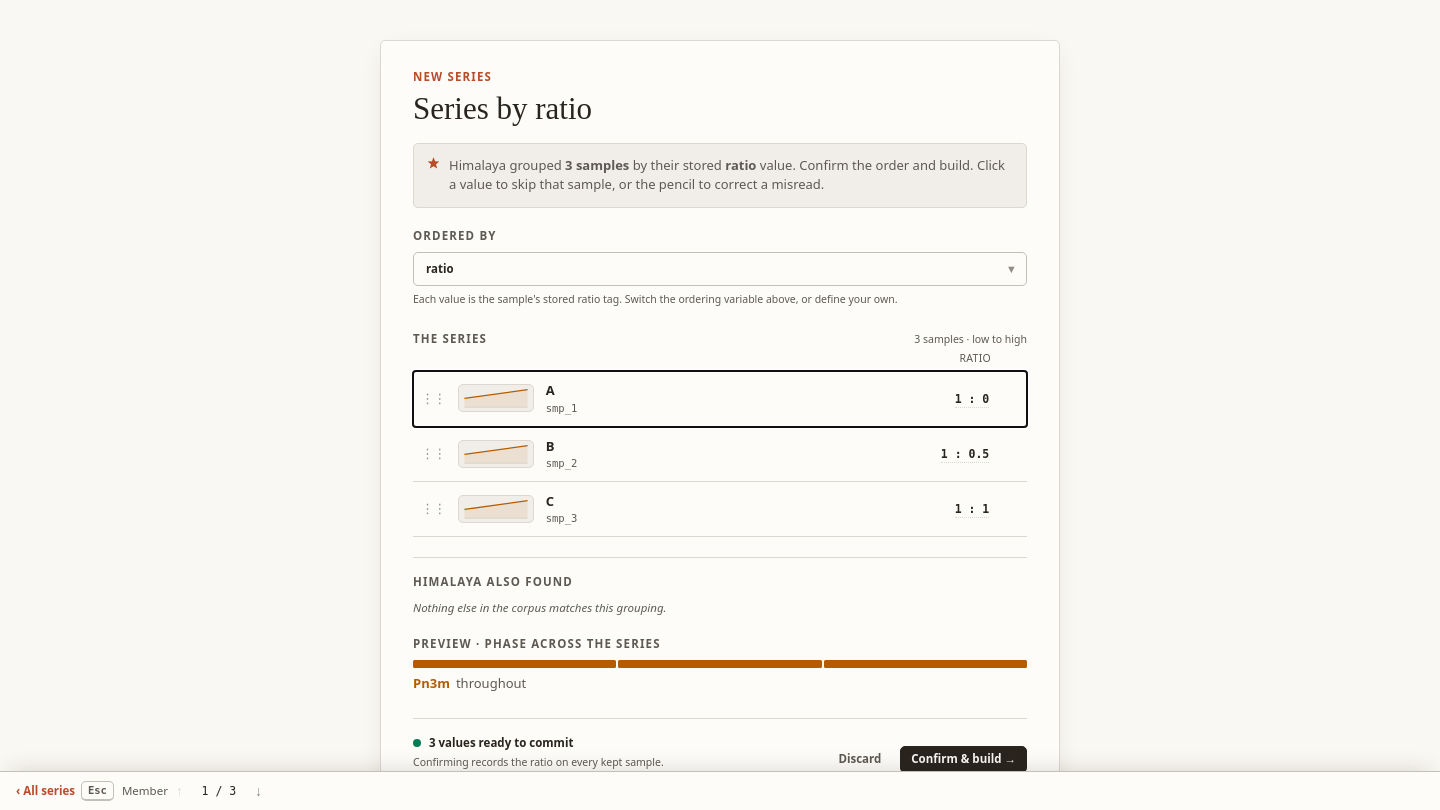
Scenario: SeriesScopingPage › ⌘Z from the page body steps the last skip back (regression pin)
Click the button with test id "flag-button".
click(943, 454)  # box [897, 442, 989, 466]
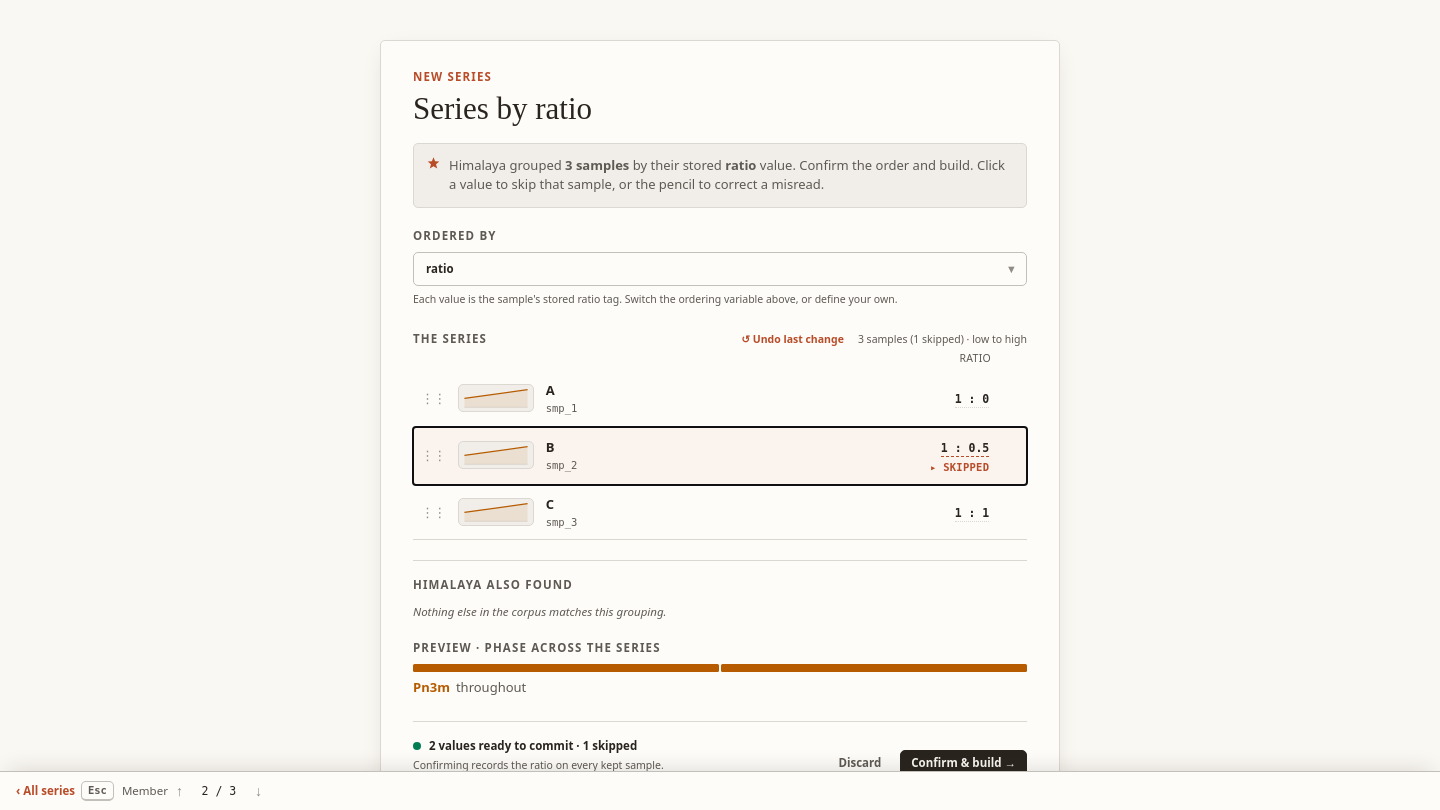
Expected: the text "2 values ready to commit · 1 skipped" is shown, [413, 738, 665, 754]
Press z
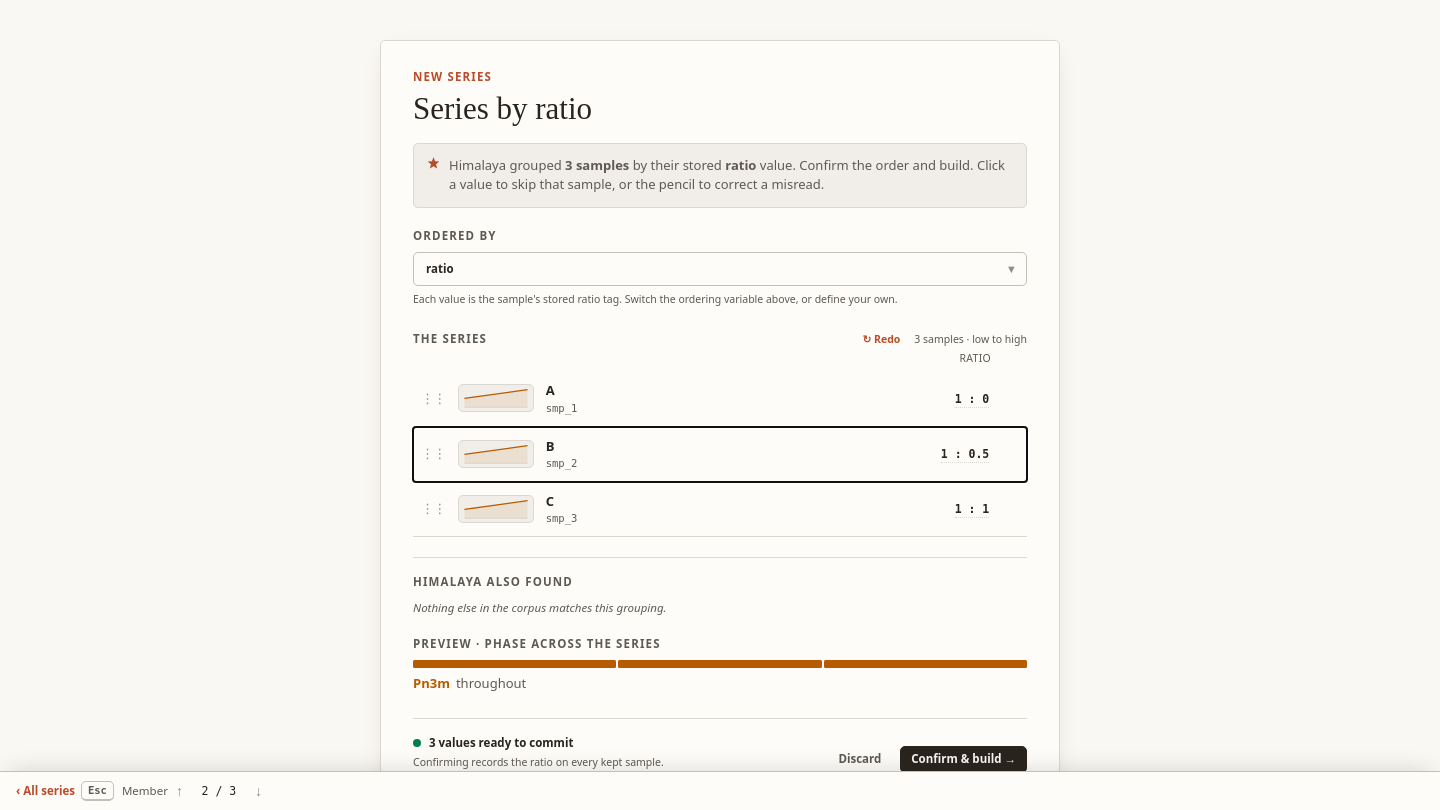
Expected: the text "3 values ready to commit" is shown, [413, 735, 573, 750]
